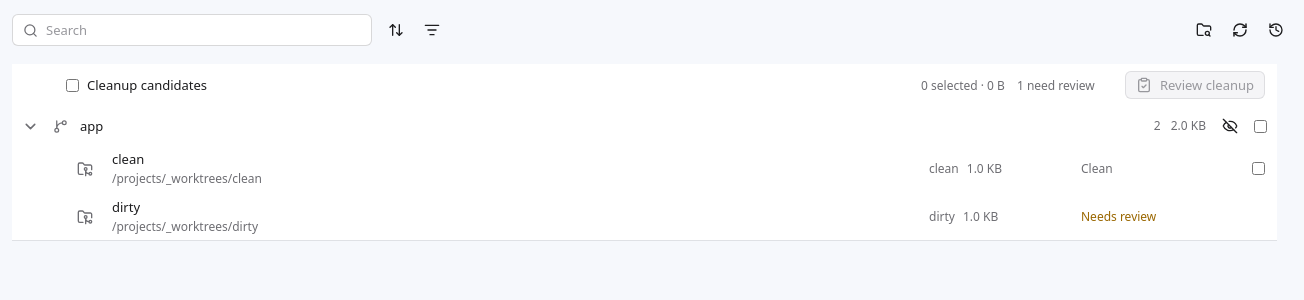
Test: WorktreeDialog › excludes a freshly changed review-needed tree from batch confirmation
The width and height of the screenshot is (1304, 300).
Step 1. Click the checkbox named "Select all eligible Worktrees" → (1260, 126), box [1254, 120, 1267, 132]
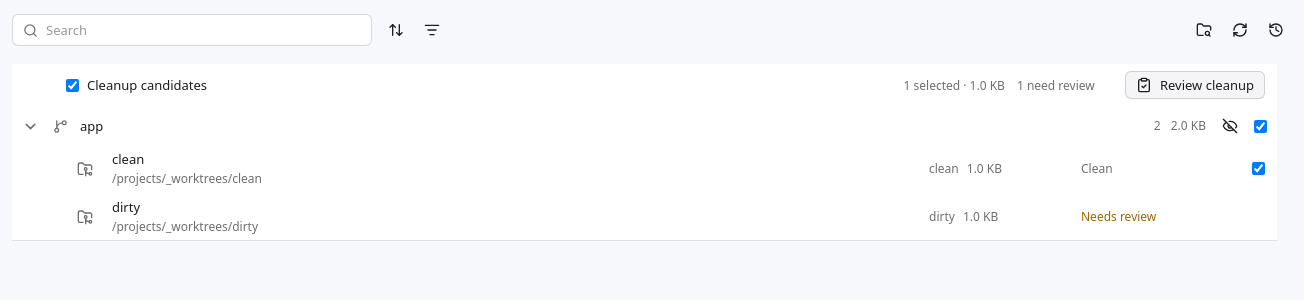
Step 2. Click the button with aria-label "Review cleanup (1)" → (1195, 85), box [1125, 71, 1265, 99]
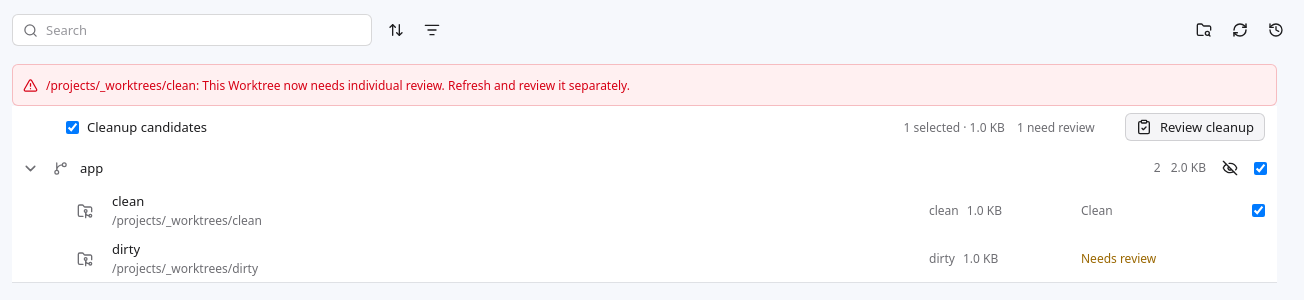
Check: the message shows "now needs individual review", box [46, 76, 630, 94]
